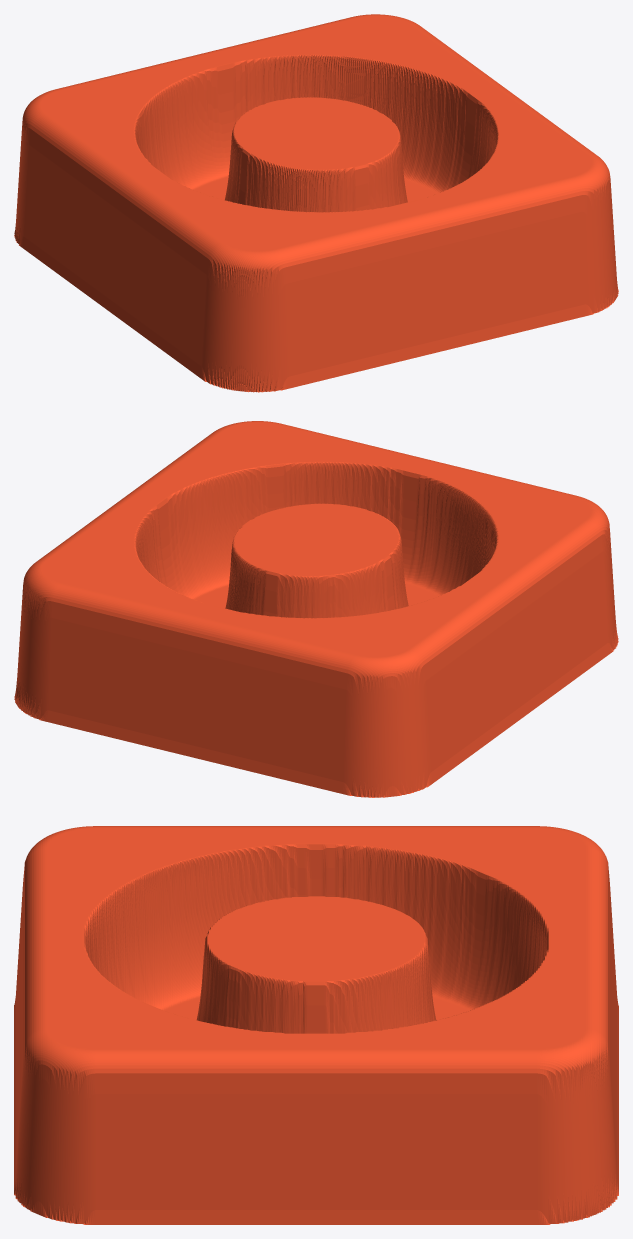
File: mold.glb
3 renders of one model, top to bottom at view 1: azimuth 30°, elevation 25°; view 2: azimuth 150°, elevation 25°; view 3: azimuth 270°, elevation 25°, orthographic. The views are drawn at different scales.
Parts seen in each view (by area): view 1: geometry_0; view 2: geometry_0; view 3: geometry_0.
Part boxes in pixels (x1=…): geometry_0: x1=14, y1=14, x2=618, y2=392; geometry_0: x1=14, y1=421, x2=618, y2=797; geometry_0: x1=14, y1=826, x2=618, y2=1224.
Bounding box in the file's own units: 0.0652 × 0.0197 × 0.067.
